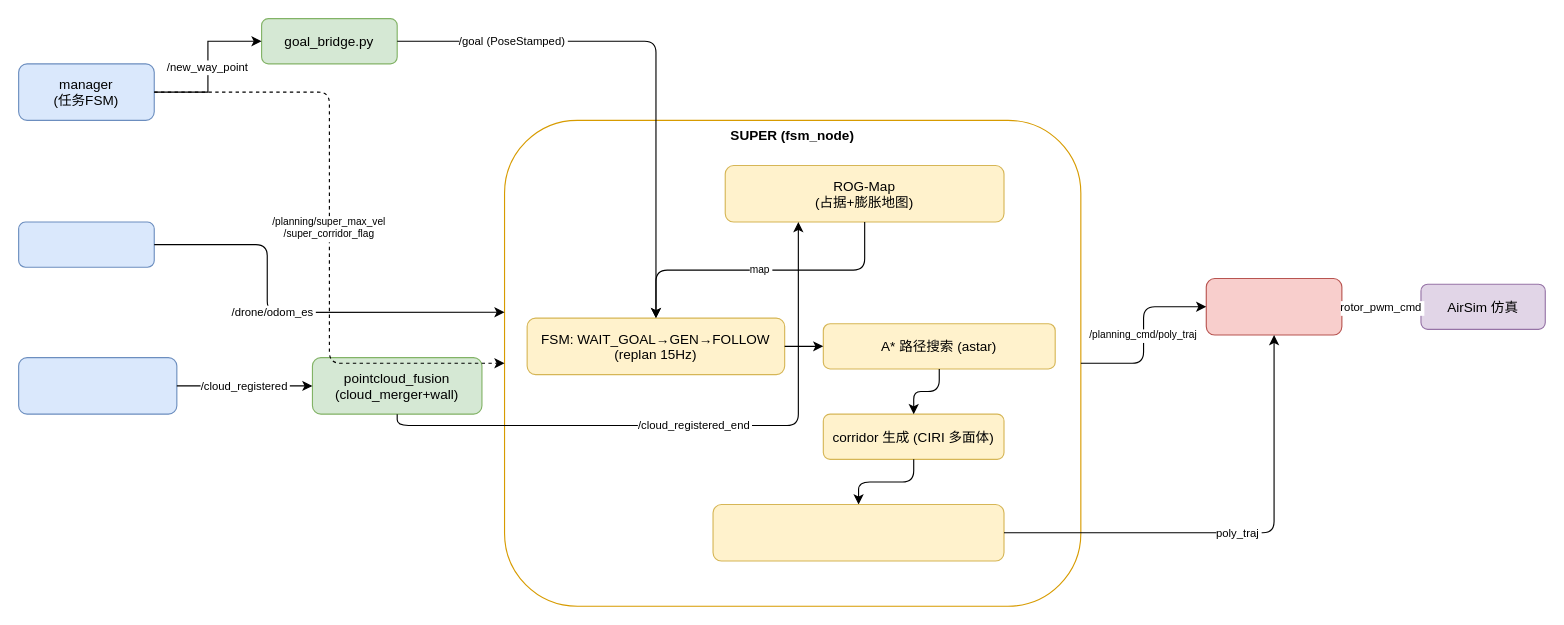
Some shapes in this 1564 by 625 pixel diagram are drawn without their labels. Here are the shapes that lost their labels. From the top down, the centre of each, then its label:
At (x=86, y=244): "logger_node".
At (x=1273, y=306): "MPC 飞控 (100Hz)".
At (x=97, y=385): "track_detector (去畸变/工厂定位)".
At (x=858, y=532): "MINCO 轨迹优化 (EXP主轨迹; backup禁用)".
